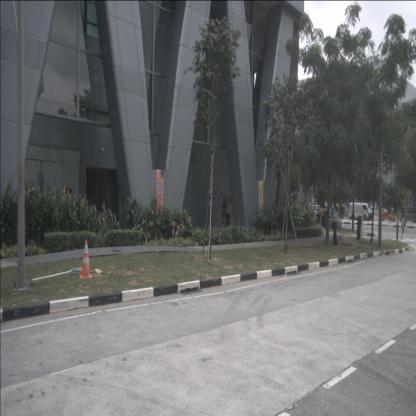barrier: (372, 209, 380, 219), (382, 212, 390, 219), (378, 212, 384, 220)
cone: (79, 240, 93, 278)
